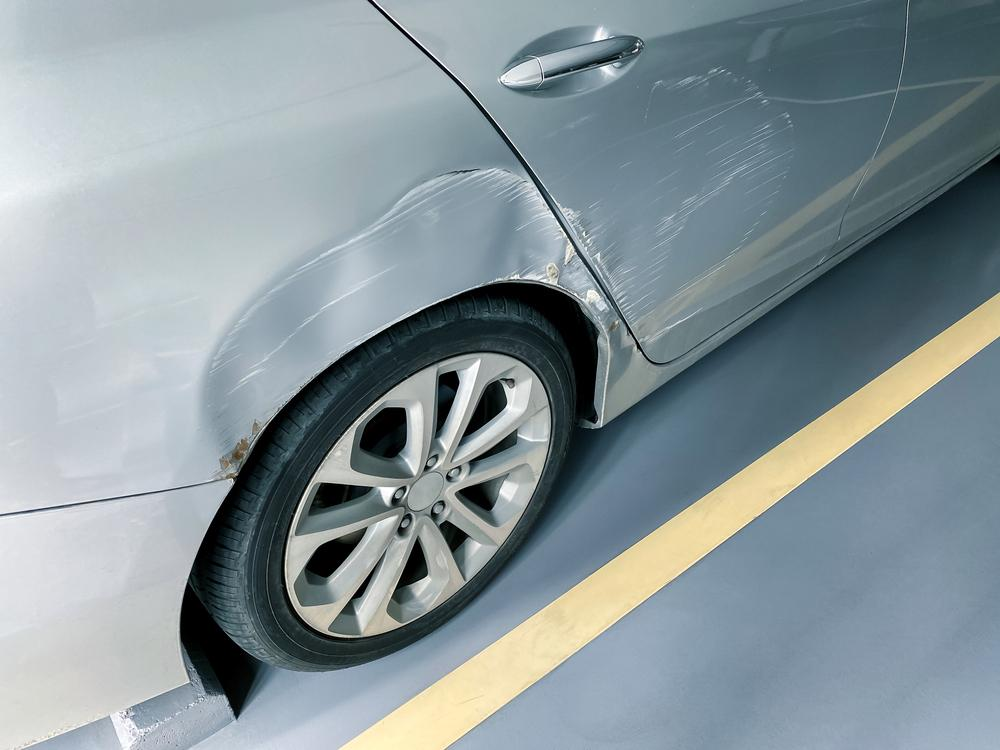dent: (199, 169, 620, 477)
scratch: (549, 65, 801, 353)
